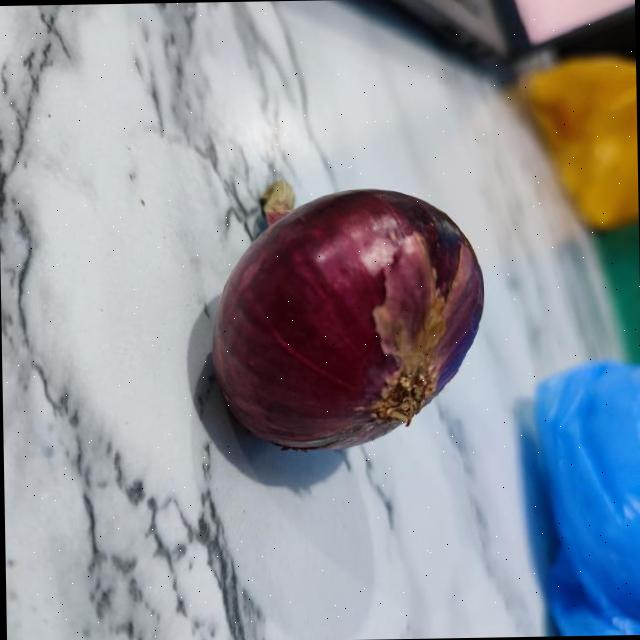Onion: (211, 181, 483, 450)
